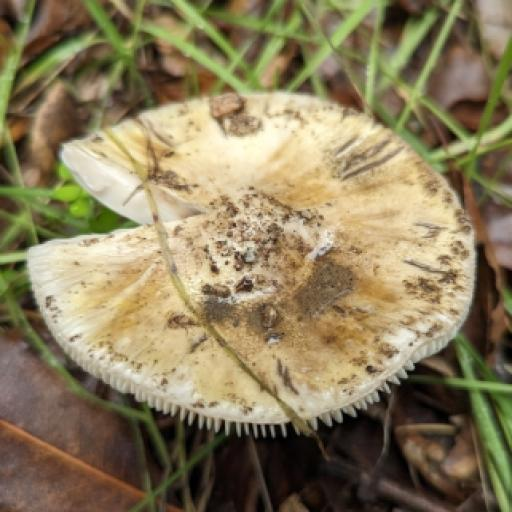mushroom: (3, 42, 505, 471)
